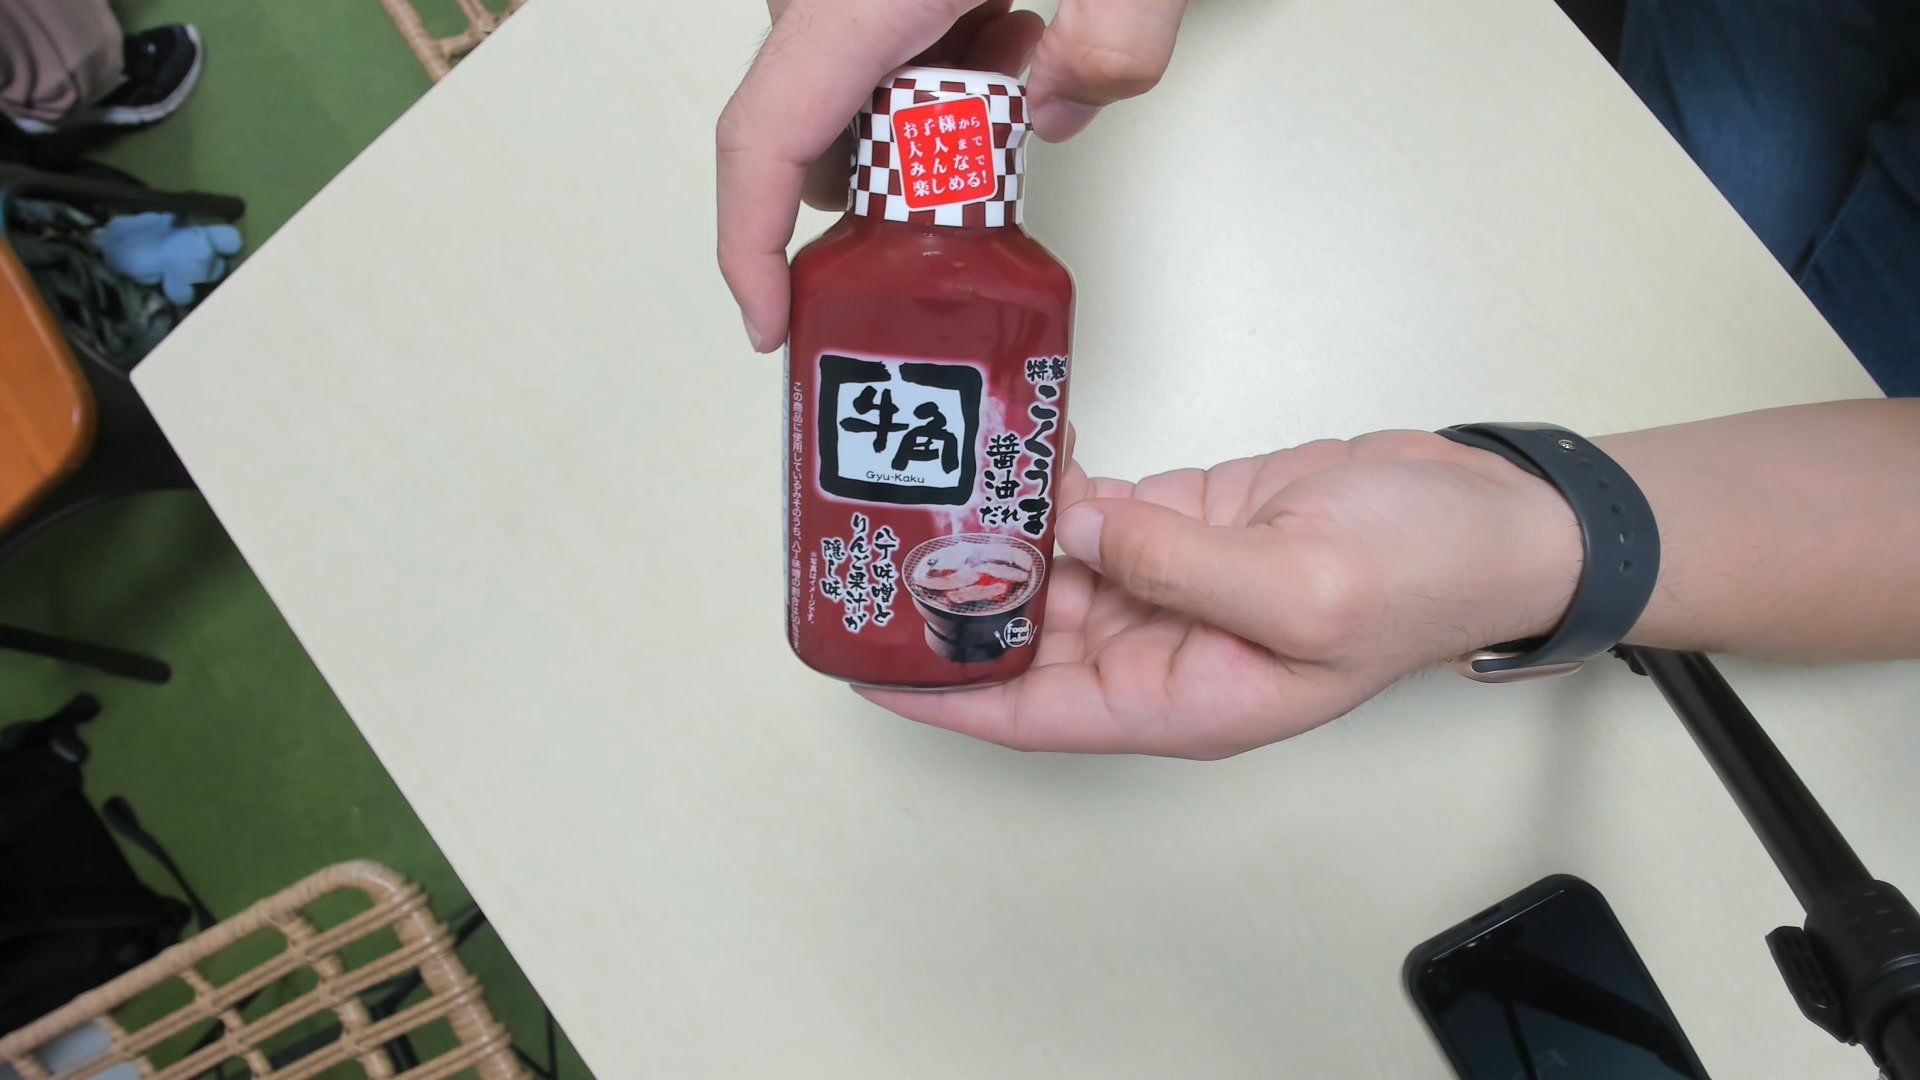OtherSauceDressing_200-299g_NonHalal_NonHealthy: (774, 63, 1063, 684)
